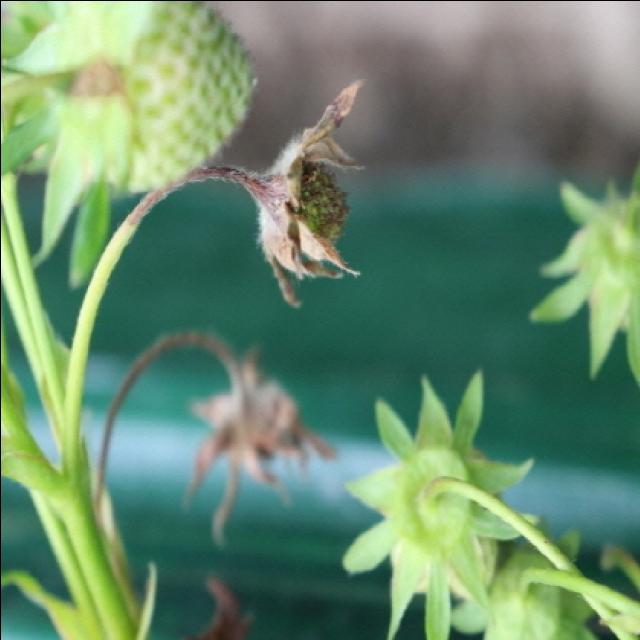Gray Mold: (196, 76, 371, 308)
